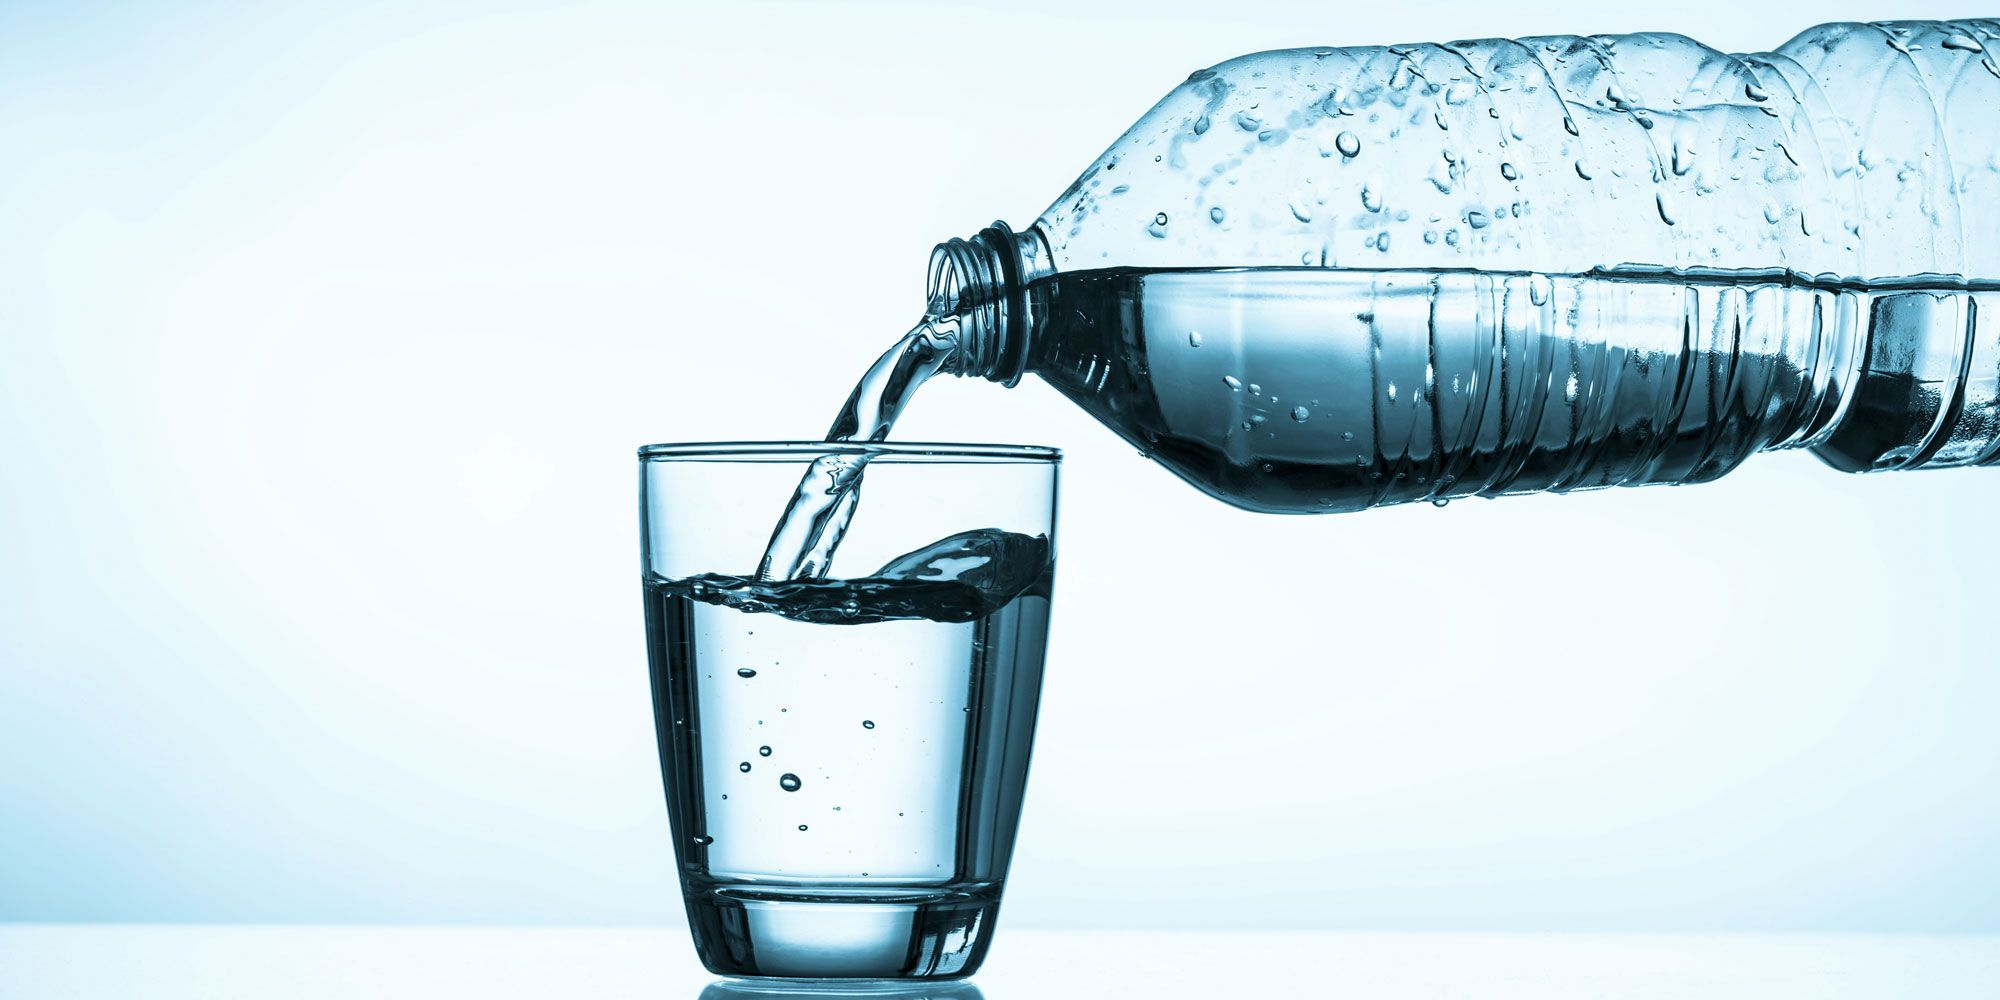glass of water: (927, 20, 2000, 497), (631, 404, 1070, 1000)
